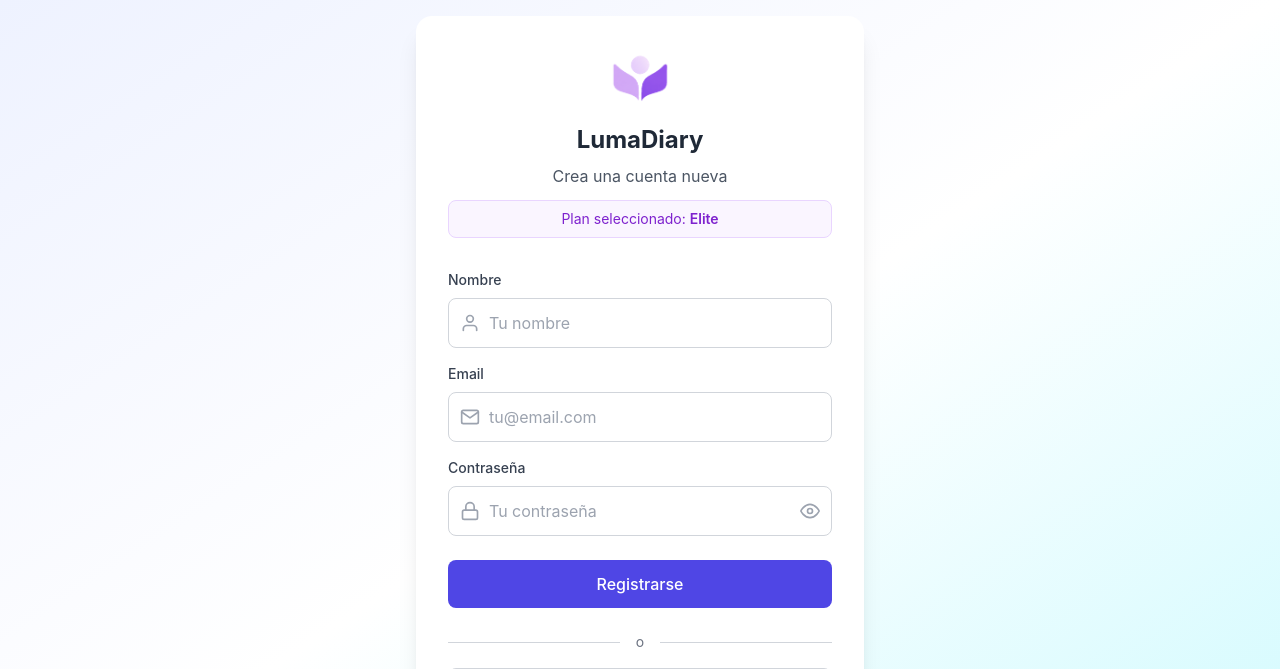
Test: selected plan opens registration, and signup requires verification
expect the text "Crea una cuenta nueva" is shown: met, box [553,166,727,186]
In the field labelled "Email": (640, 417) [448,392,832,442], type "ana@test.invalid"
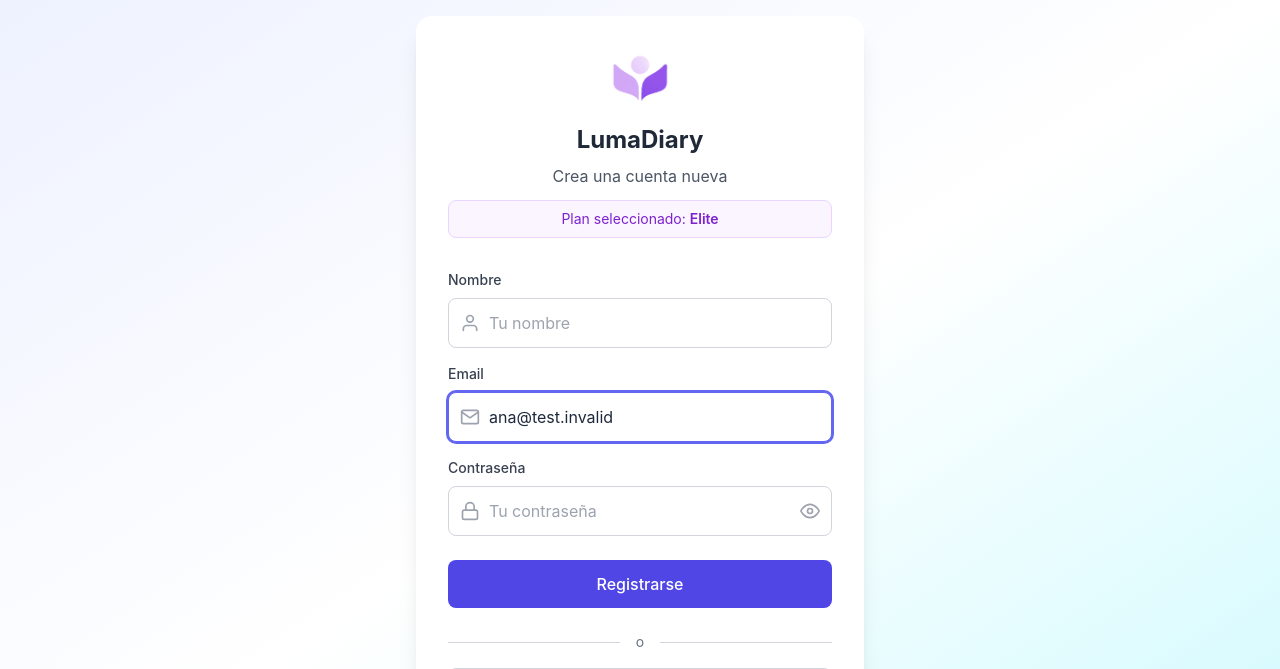
In the password field labelled "Contraseña": (640, 511) [448,486,832,536], type "password"
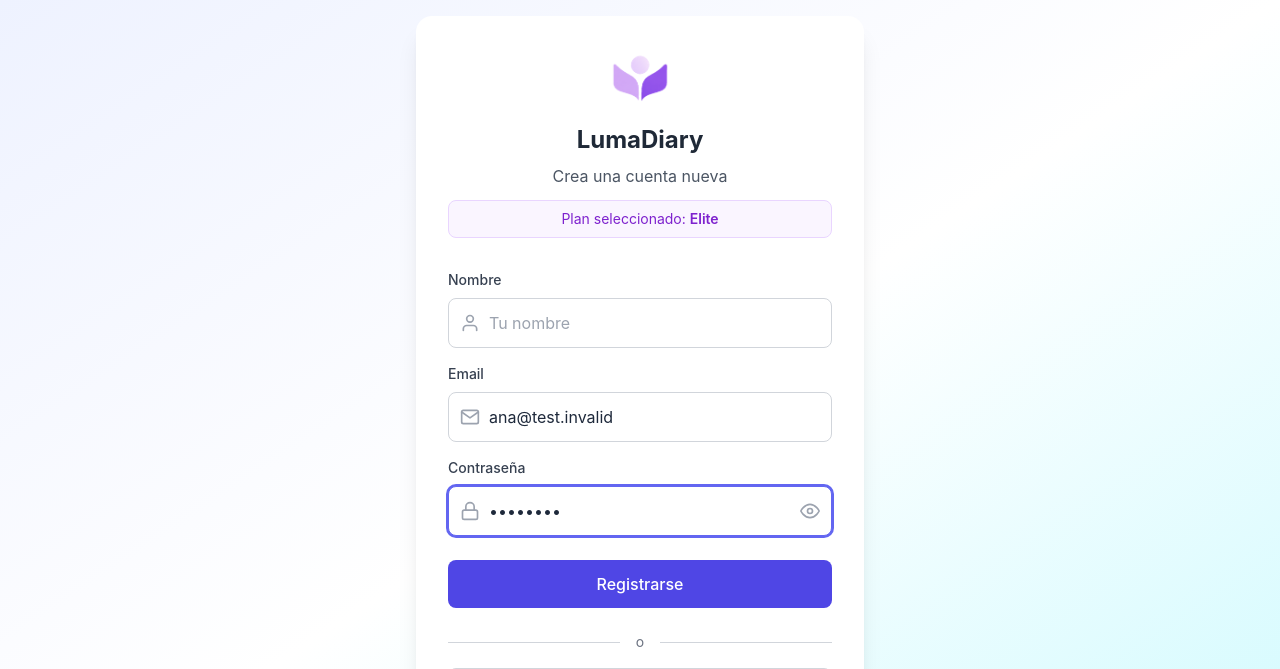
In the field labelled "Nombre": (640, 323) [448,298,832,348], type "Ana"
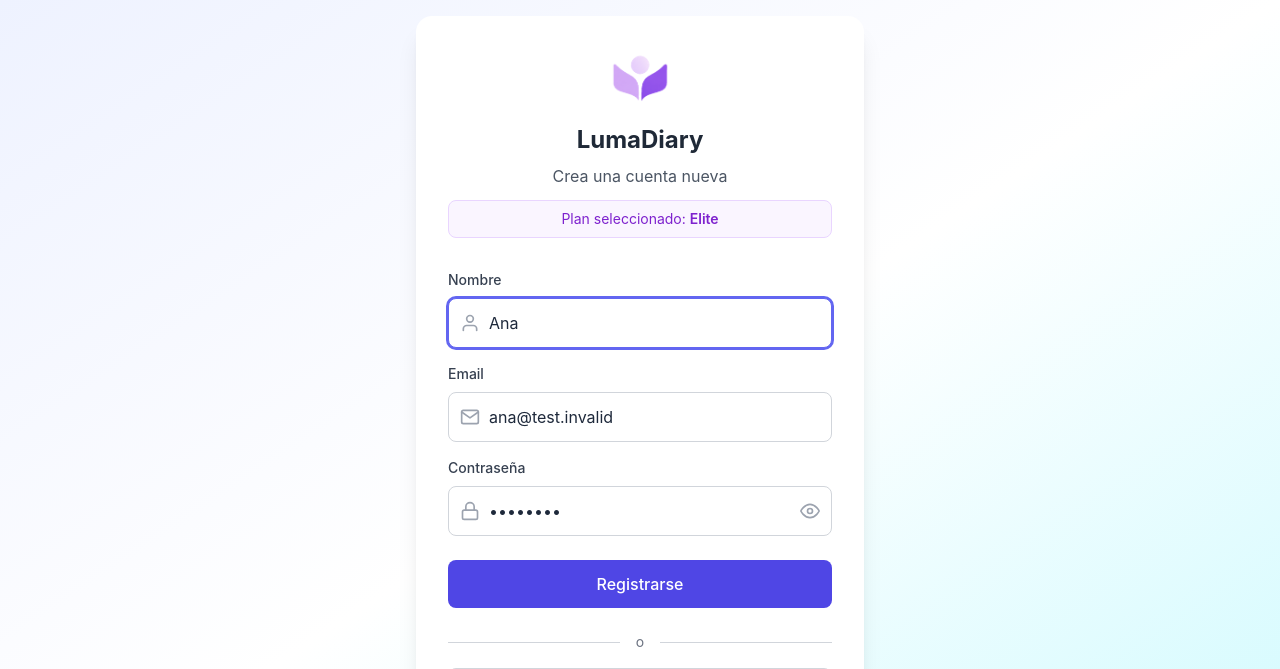
Click the button "Registrarse": (640, 584) [448,560,832,608]
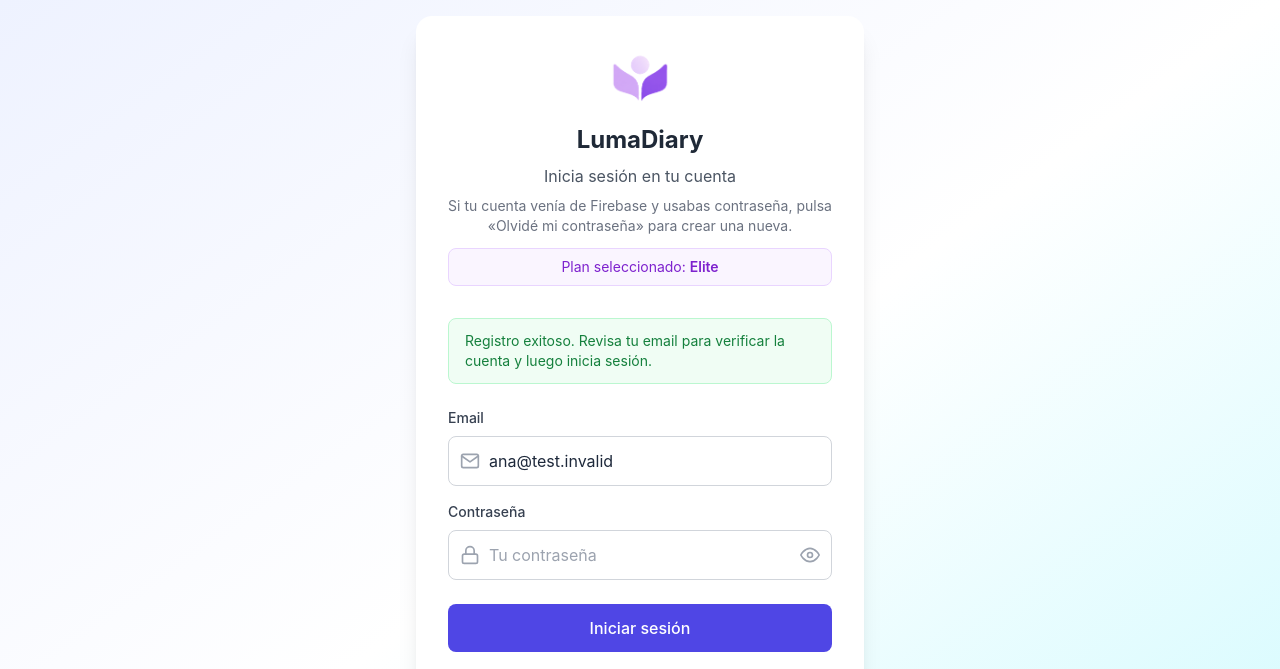
expect the text "Registro exitoso" is shown: met, box [465,332,785,369]
expect the password field labelled "Contraseña" is empty: met, box [448,530,832,580]
